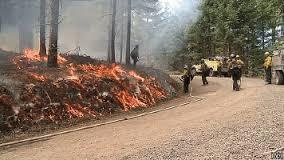fire: (11, 50, 159, 119)
